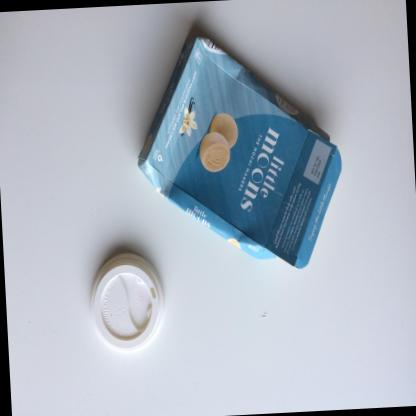Paper: (136, 35, 340, 268)
Plastic: (88, 252, 164, 356)
